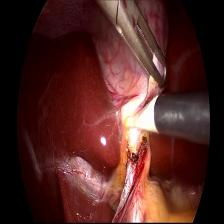Grasper: (95, 0, 168, 90)
Hook: (123, 94, 161, 138)
